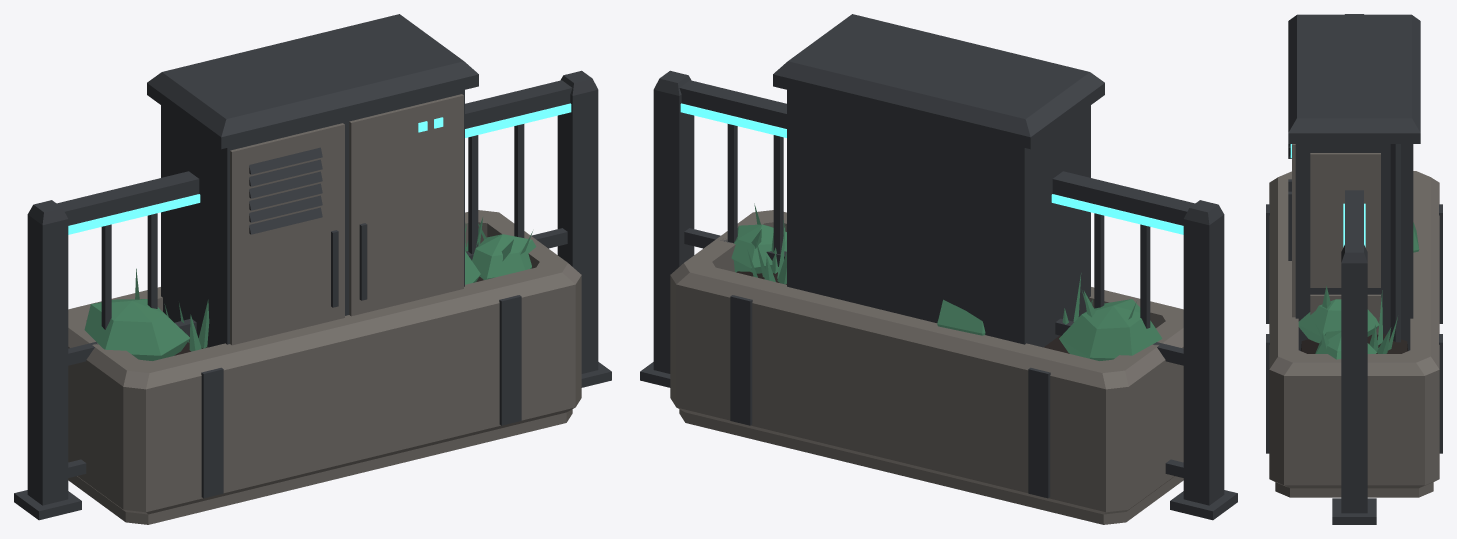
Rendered from edge196.glb.
The picture shows the model from 3 angles, left to right: view 1: azimuth 30°, elevation 25°; view 2: azimuth 150°, elevation 25°; view 3: azimuth 270°, elevation 25°; orthographic projection. The views are drawn at different scales.
Visible parts, largest first — view 1: e196-planter-e196-concrete, e196-cabinet-e196-steel, e196-cabinet-e196-concrete, e196-rail-e196-steel, e196-planter-e196-shrub, e196-planter-e196-steel, e196-rail-e196-led; view 2: e196-cabinet-e196-steel, e196-planter-e196-concrete, e196-rail-e196-steel, e196-planter-e196-shrub, e196-planter-e196-steel, e196-rail-e196-led; view 3: e196-planter-e196-concrete, e196-cabinet-e196-steel, e196-rail-e196-steel, e196-cabinet-e196-concrete, e196-planter-e196-shrub, e196-planter-e196-steel, e196-planter-e196-soil.
Part boxes in pixels (x1=…): e196-planter-e196-concrete: x1=68, y1=210, x2=581, y2=524; e196-cabinet-e196-steel: x1=147, y1=14, x2=478, y2=347; e196-cabinet-e196-concrete: x1=230, y1=94, x2=463, y2=345; e196-rail-e196-steel: x1=14, y1=70, x2=611, y2=520; e196-planter-e196-shrub: x1=84, y1=217, x2=536, y2=360; e196-planter-e196-steel: x1=201, y1=295, x2=521, y2=498; e196-rail-e196-led: x1=68, y1=103, x2=571, y2=234; e196-cabinet-e196-steel: x1=773, y1=14, x2=1104, y2=347; e196-planter-e196-concrete: x1=670, y1=210, x2=1183, y2=524; e196-rail-e196-steel: x1=640, y1=70, x2=1237, y2=520; e196-planter-e196-shrub: x1=731, y1=203, x2=1162, y2=360; e196-planter-e196-steel: x1=730, y1=295, x2=1050, y2=498; e196-rail-e196-led: x1=680, y1=103, x2=1183, y2=234; e196-planter-e196-concrete: x1=1269, y1=171, x2=1439, y2=497; e196-cabinet-e196-steel: x1=1288, y1=14, x2=1420, y2=350; e196-rail-e196-steel: x1=1332, y1=14, x2=1376, y2=524; e196-cabinet-e196-concrete: x1=1292, y1=144, x2=1380, y2=334; e196-planter-e196-shrub: x1=1298, y1=222, x2=1419, y2=359; e196-planter-e196-steel: x1=1266, y1=204, x2=1442, y2=453; e196-planter-e196-soil: x1=1301, y1=334, x2=1407, y2=353.
Size of the model in its own units: 2 by 1.25 by 0.6.
